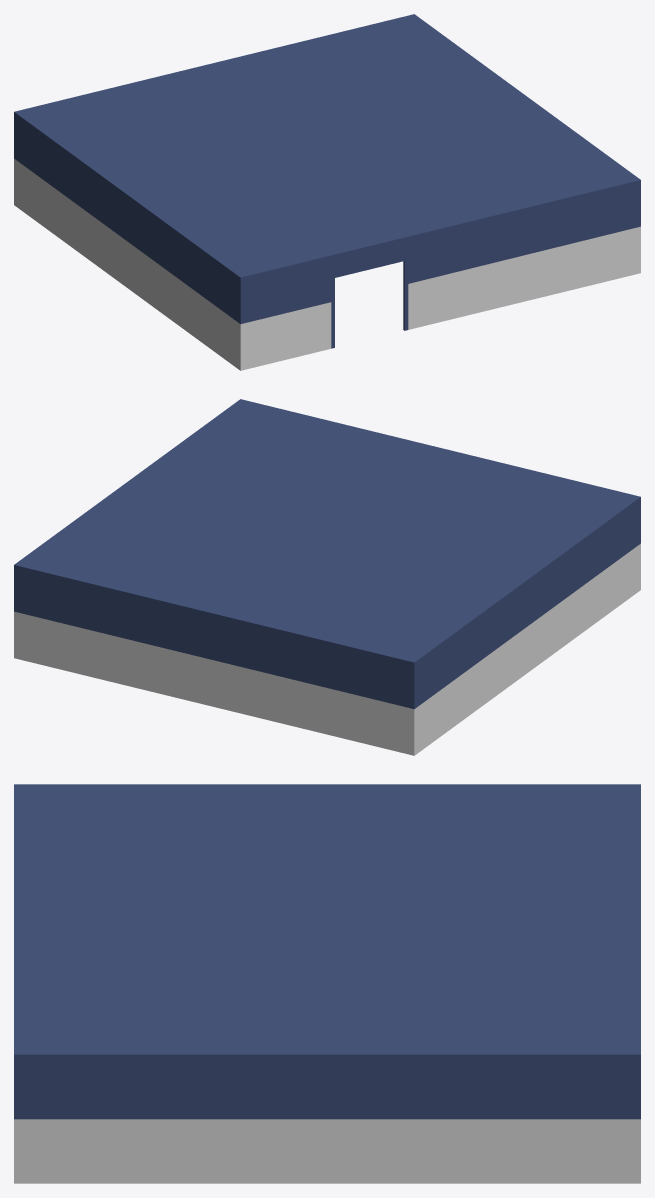
Rendered from ROOM.fbx.
3 views of the same model, one above another, from view 1: azimuth 30°, elevation 25°; view 2: azimuth 150°, elevation 25°; view 3: azimuth 270°, elevation 25° (orthographic). The views are drawn at different scales.
Parts seen in each view (by area): view 1: building_003; view 2: building_003; view 3: building_003.
Part boxes in pixels (bbox=[...]): building_003: bbox=[14, 14, 640, 370]; building_003: bbox=[14, 399, 640, 755]; building_003: bbox=[14, 784, 640, 1183].
Bounding box in the file's own units: 1044 × 232 × 1023.
